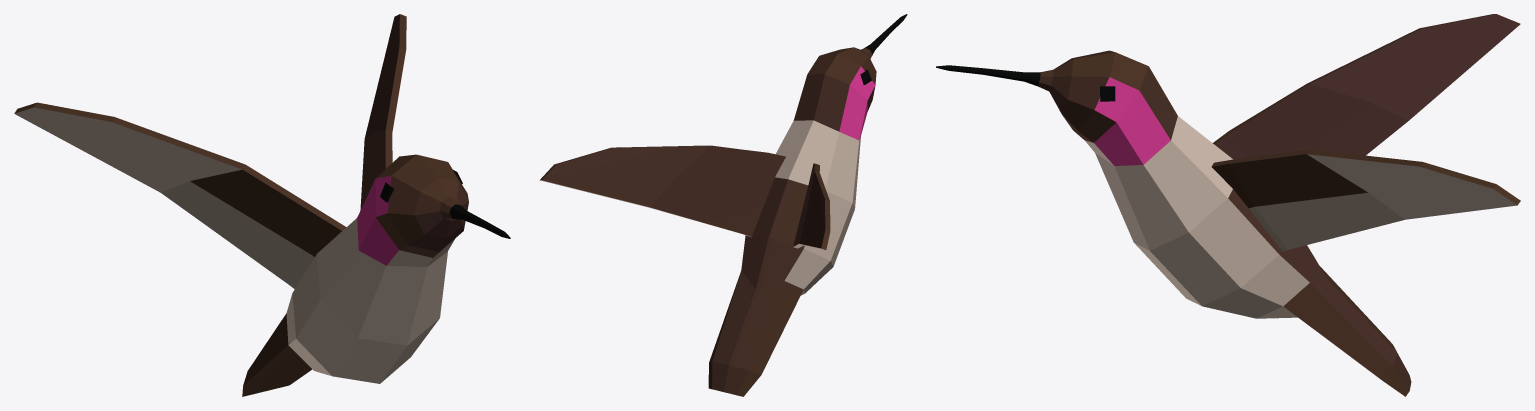
Rendered from 1HreVSktbPG.glb.
The picture shows the model from 3 angles, left to right: view 1: azimuth 30°, elevation 25°; view 2: azimuth 150°, elevation 25°; view 3: azimuth 270°, elevation 25°; orthographic projection. The views are drawn at different scales.
Parts seen in each view (by area): view 1: Geo_Hummingbird; view 2: Geo_Hummingbird; view 3: Geo_Hummingbird.
Boxes of the visible parts, x1,y1,x2,y2 form: Geo_Hummingbird: (14, 14, 510, 396); Geo_Hummingbird: (540, 14, 907, 396); Geo_Hummingbird: (936, 14, 1520, 396).
Size of the model in its own units: 1.17 by 0.9999 by 1.59.
Materials: 1 (1 with a texture image).
